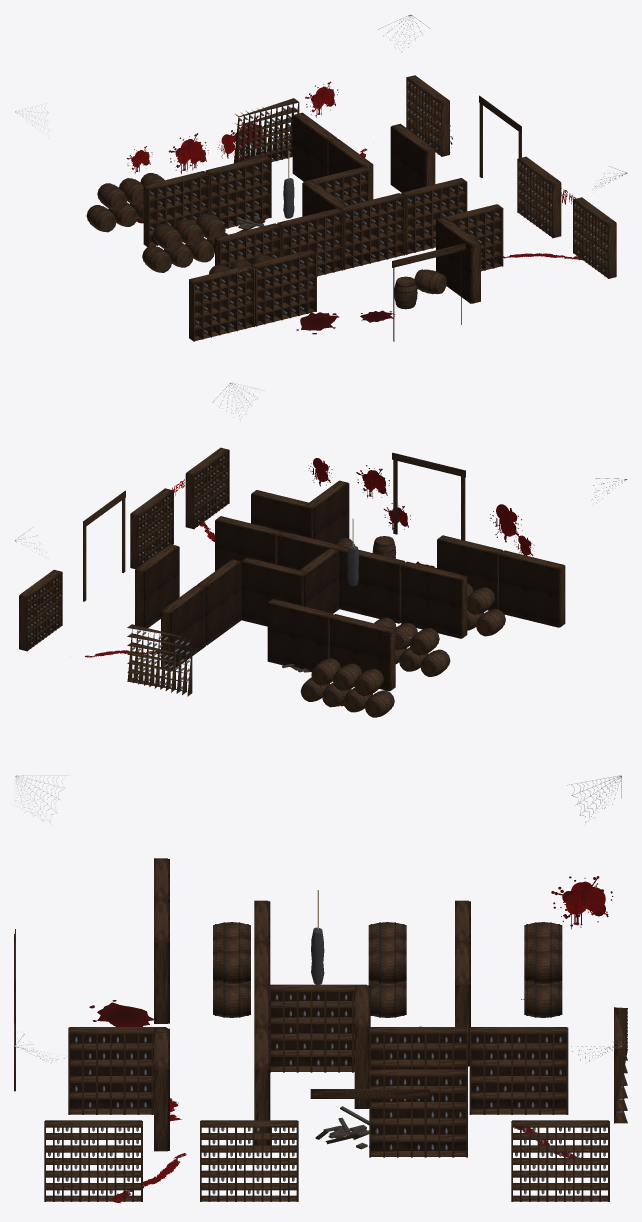
Rendered from dark_wine.glb.
3 views of the same model, one above another, from view 1: azimuth 30°, elevation 25°; view 2: azimuth 150°, elevation 25°; view 3: azimuth 270°, elevation 25° (orthographic). The views are drawn at different scales.
Visible parts, largest first — view 1: dark_wine; view 2: dark_wine; view 3: dark_wine.
Part boxes in pixels (x1,y1,x2,y2): dark_wine: (14,14,627,341); dark_wine: (14,382,627,717); dark_wine: (14,775,627,1203).
Bounding box in the file's own units: 18.89 × 5.15 × 17.75.
19 materials, 16 textured.
